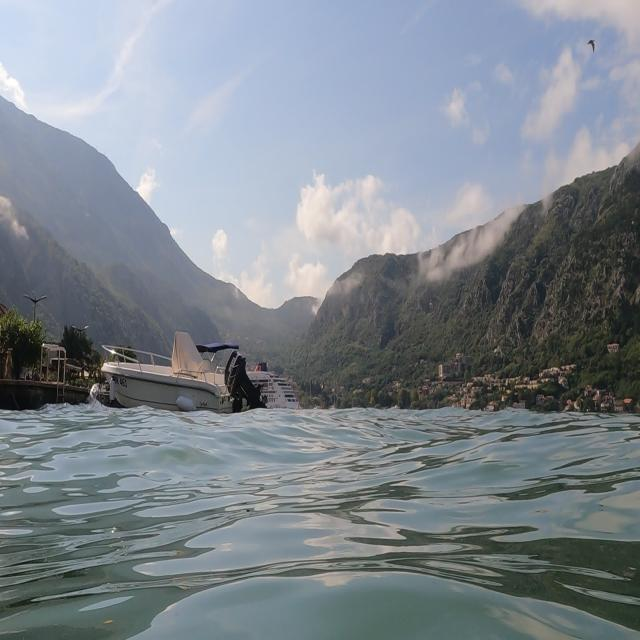boat: (96, 327, 293, 416)
